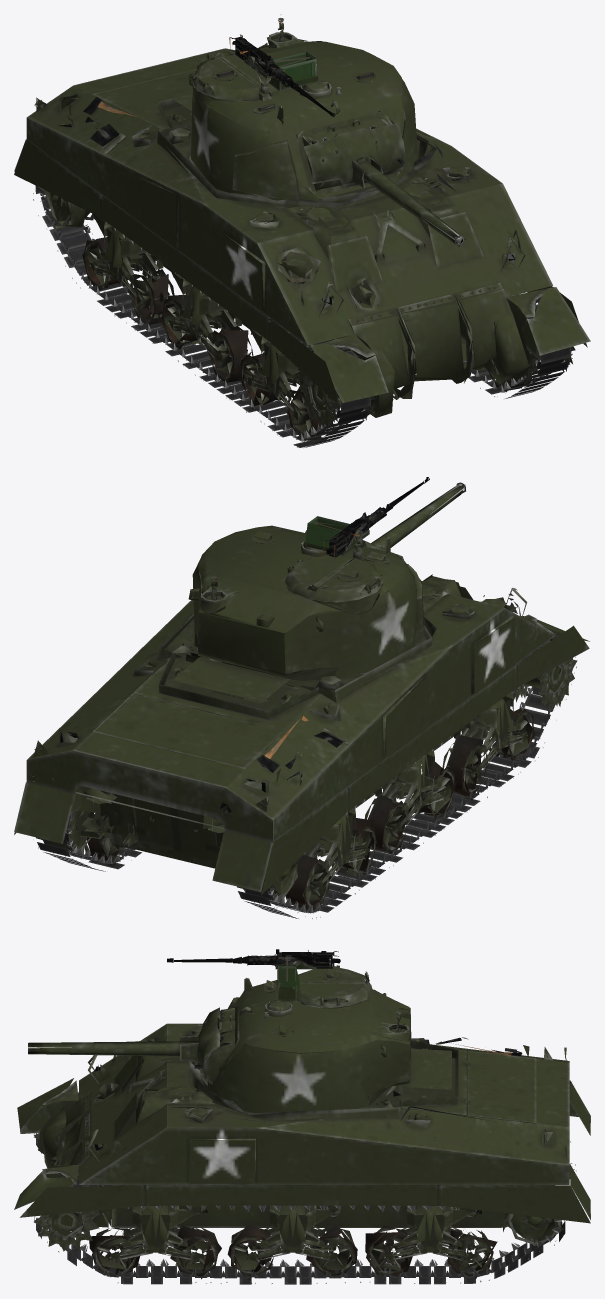
Rendered from sherman.glb.
3 views of the same model, one above another, from view 1: azimuth 30°, elevation 25°; view 2: azimuth 150°, elevation 25°; view 3: azimuth 270°, elevation 25° (orthographic). The views are drawn at different scales.
Parts seen in each view (by area): view 1: Casco, Torre; view 2: Casco, Torre; view 3: Casco, Torre.
Part boxes in pixels (x1,y1,x2,y2): Casco: (14,43,590,447); Torre: (188,14,465,262); Casco: (14,574,589,918); Torre: (188,477,465,749); Casco: (14,1023,590,1284); Torre: (28,949,411,1113).
Size of the model in its own units: 2.62 by 3.05 by 5.97.
Materials: 1 (1 with a texture image).
